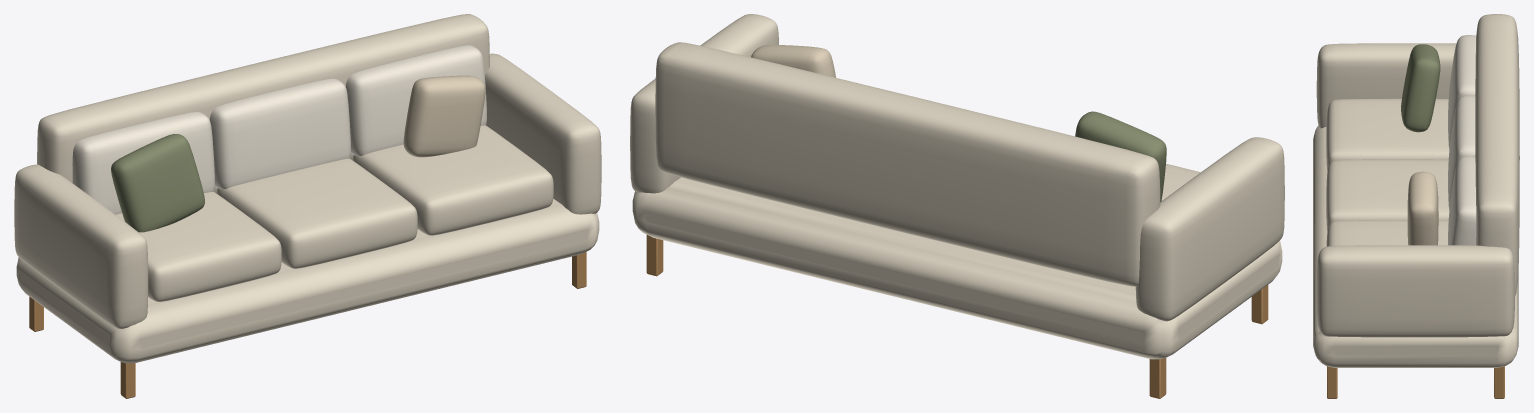
The picture shows the model from 3 angles, left to right: view 1: azimuth 30°, elevation 25°; view 2: azimuth 150°, elevation 25°; view 3: azimuth 270°, elevation 25°; orthographic projection. The views are drawn at different scales.
Visible parts, largest first — view 1: Sofa upholstered base, Soft back, Rounded arm, Seat cushion.001, Seat cushion.002, Back cushion.001, Rounded arm.001, Seat cushion, Back cushion.002, Sage cushion, Back cushion, Woven cushion (+1 smaller); view 2: Soft back, Sofa upholstered base, Rounded arm, Rounded arm.001, Sage cushion, Woven cushion, Seat cushion, Tapered leg, Tapered leg.002, Tapered leg.001; view 3: Rounded arm.001, Soft back, Sofa upholstered base, Seat cushion, Rounded arm, Seat cushion.001, Sage cushion, Seat cushion.002, Back cushion.002, Woven cushion, Back cushion.001, Back cushion (+2 smaller).
Part boxes in pixels (left/top/right/bottom): Sofa upholstered base: left=16, top=199, right=599, bottom=363; Soft back: left=37, top=14, right=489, bottom=193; Rounded arm: left=14, top=164, right=148, bottom=328; Seat cushion.001: left=216, top=158, right=417, bottom=268; Seat cushion.002: left=352, top=125, right=553, bottom=235; Back cushion.001: left=209, top=78, right=350, bottom=189; Rounded arm.001: left=485, top=53, right=601, bottom=214; Seat cushion: left=116, top=191, right=281, bottom=301; Back cushion.002: left=345, top=45, right=486, bottom=155; Sage cushion: left=111, top=134, right=204, bottom=232; Back cushion: left=72, top=112, right=214, bottom=214; Woven cushion: left=403, top=75, right=485, bottom=157; Soft back: left=655, top=42, right=1160, bottom=286; Sofa upholstered base: left=632, top=177, right=1282, bottom=359; Rounded arm: left=1135, top=137, right=1284, bottom=321; Rounded arm.001: left=630, top=14, right=778, bottom=193; Sage cushion: left=1075, top=111, right=1166, bottom=201; Woven cushion: left=751, top=45, right=835, bottom=77; Seat cushion: left=1161, top=163, right=1200, bottom=200; Tapered leg: left=1149, top=358, right=1166, bottom=398; Tapered leg.002: left=646, top=235, right=663, bottom=276; Tapered leg.001: left=1251, top=285, right=1268, bottom=324; Rounded arm.001: left=1316, top=245, right=1514, bottom=337; Soft back: left=1475, top=14, right=1519, bottom=295; Sofa upholstered base: left=1313, top=125, right=1518, bottom=367; Seat cushion: left=1326, top=98, right=1449, bottom=170; Rounded arm: left=1316, top=43, right=1456, bottom=128; Seat cushion.001: left=1326, top=159, right=1449, bottom=231; Sage cushion: left=1401, top=44, right=1440, bottom=132; Seat cushion.002: left=1326, top=220, right=1448, bottom=246; Back cushion.002: left=1448, top=156, right=1476, bottom=245; Woven cushion: left=1407, top=171, right=1438, bottom=245; Back cushion.001: left=1448, top=95, right=1475, bottom=209; Back cushion: left=1448, top=35, right=1476, bottom=148.
Bounding box in the file's own units: 2.17 × 0.88 × 0.865.
